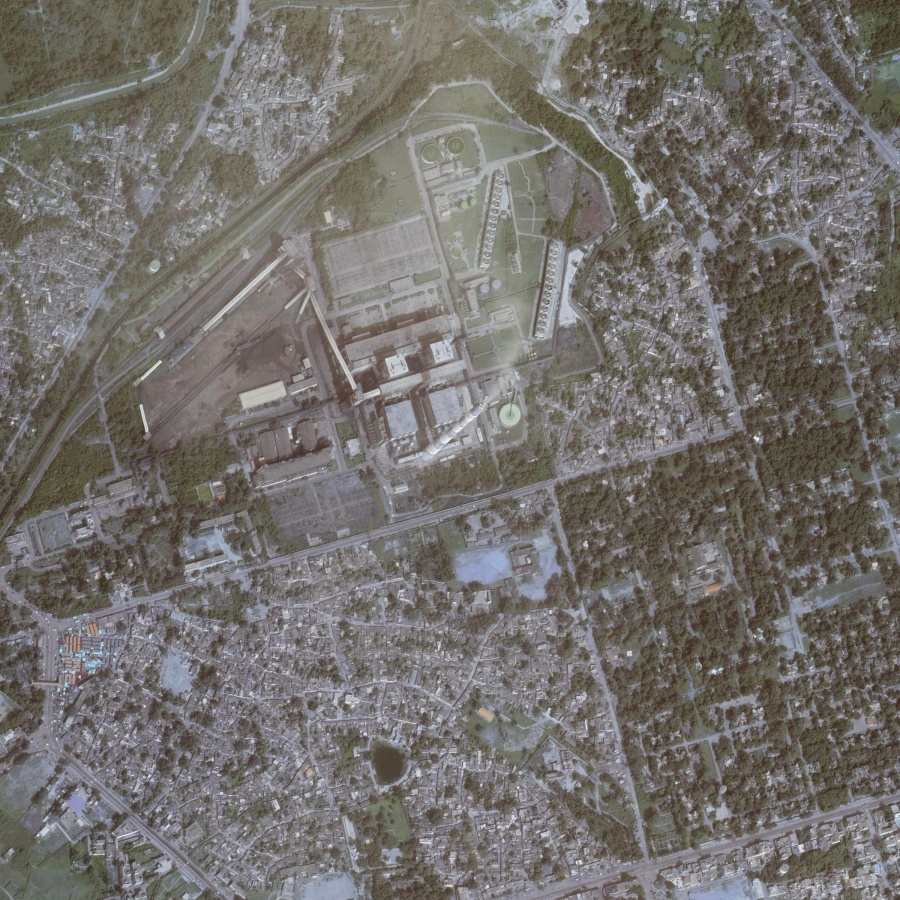PowerPlant: (136, 130, 578, 484)
